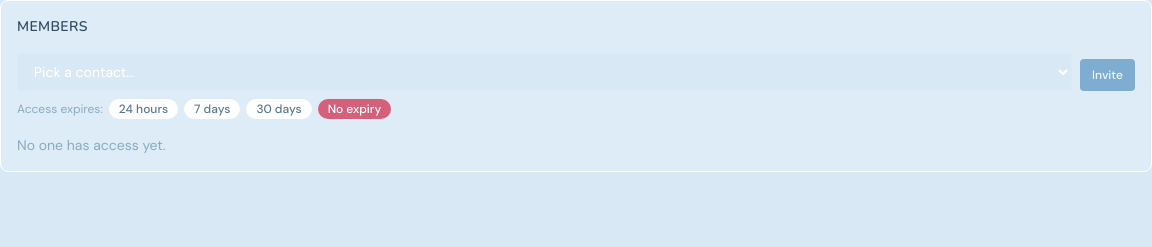
Test: MembersPanel › invites a contact with the chosen expiry preset
The width and height of the screenshot is (1152, 247).
Select "Carla" in the dropdown named "Invite contact" at (544, 72), box [17, 53, 1072, 91]
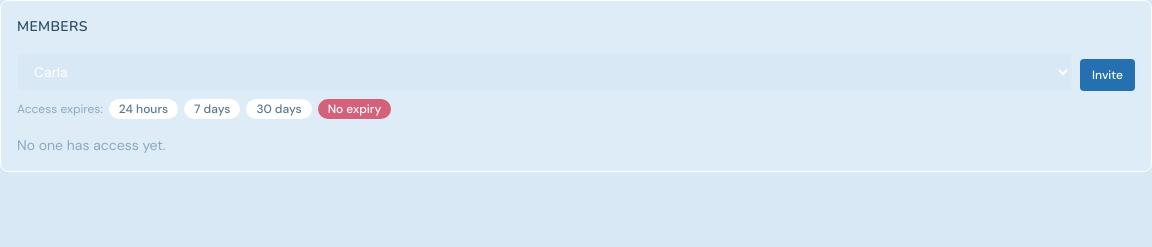
Click the button "7 days" at (212, 109), box [184, 99, 240, 119]
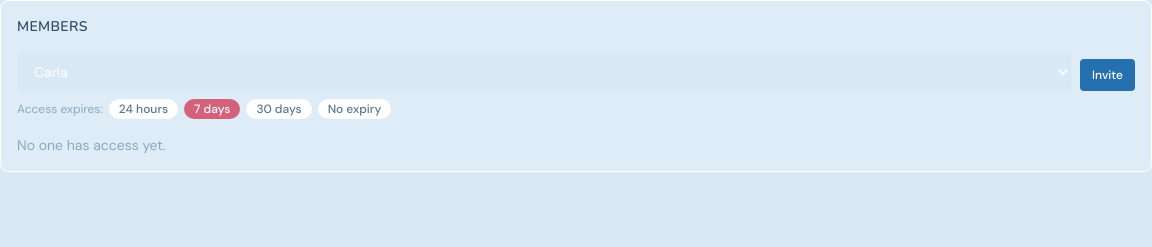
Click the button "Invite" at (1108, 75), box [1080, 59, 1135, 91]
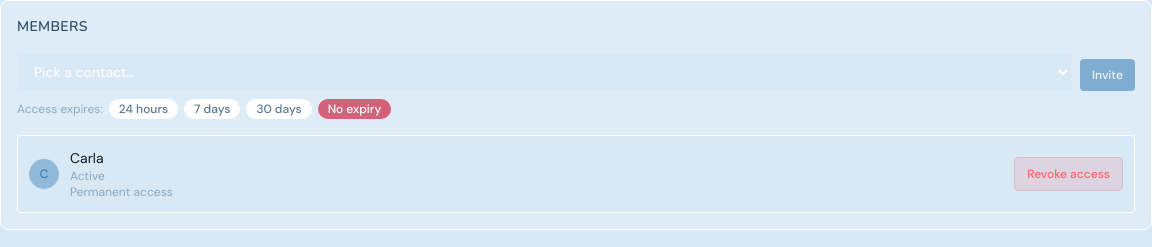
Result: the text "Active" is shown at [70, 168, 105, 184]
